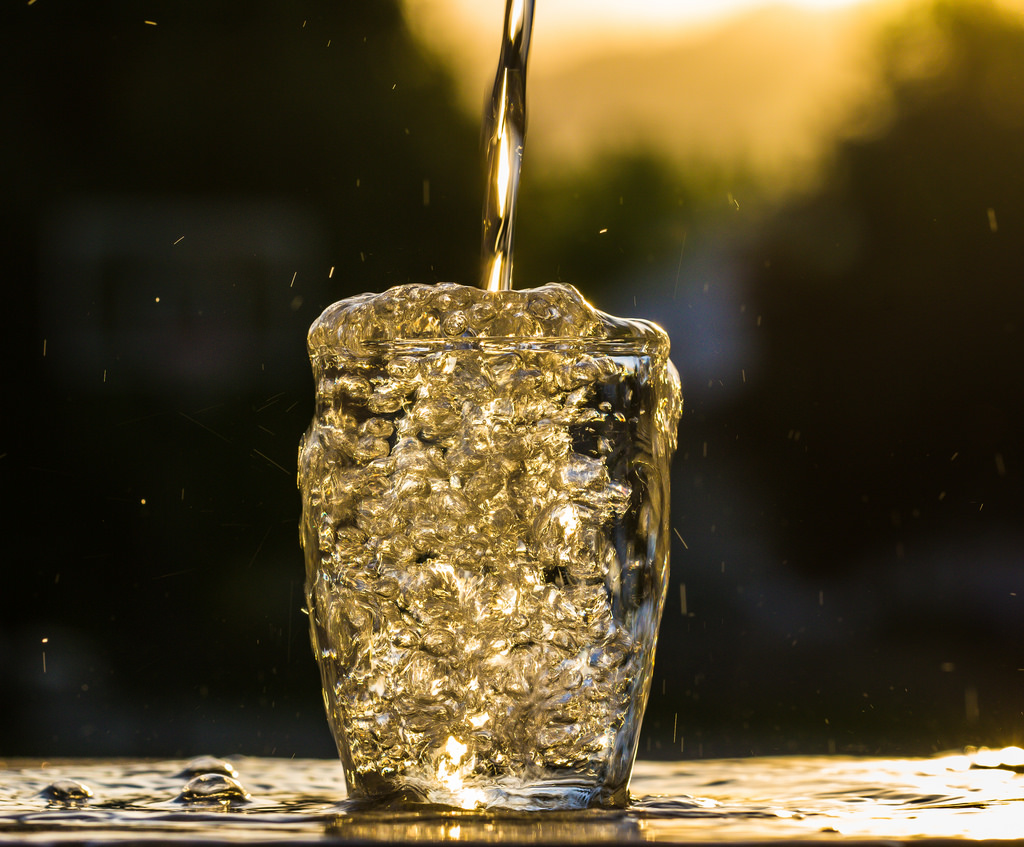glass of water: (319, 297, 652, 820)
